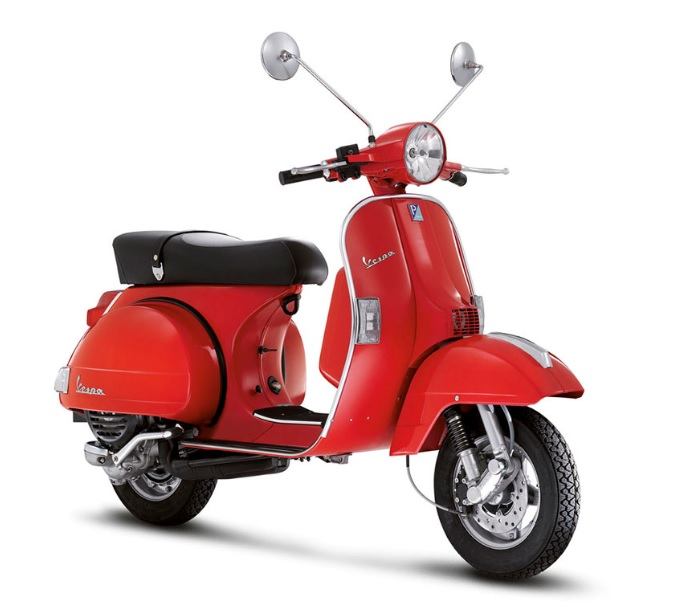motorcycle: (70, 126, 583, 580)
